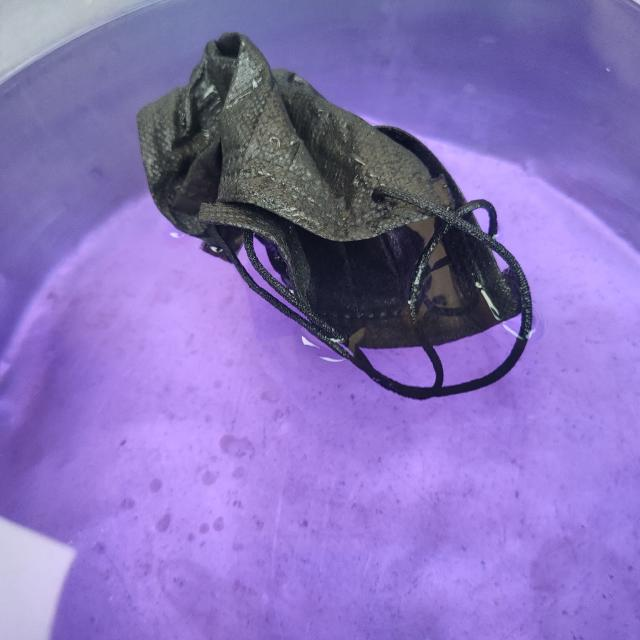mask: (132, 19, 549, 378)
